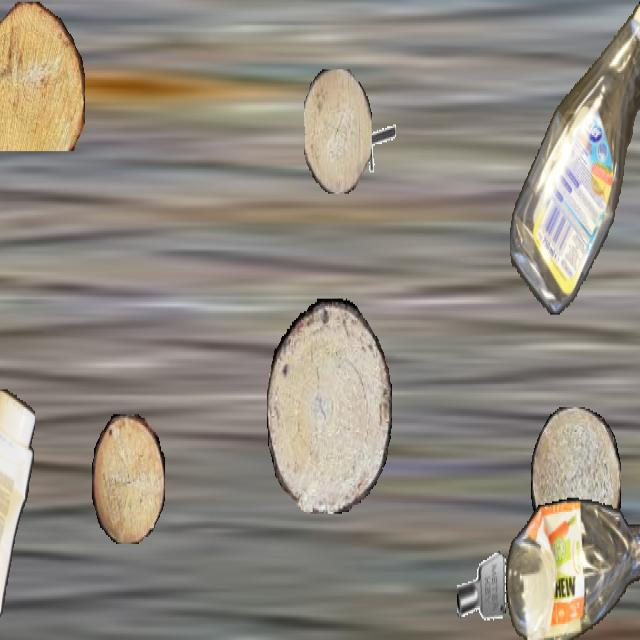metal: (457, 544, 507, 633), (358, 108, 396, 176)
plastic: (510, 2, 640, 314), (506, 496, 640, 638), (0, 390, 34, 638)
wood: (267, 299, 391, 512), (531, 407, 621, 557), (0, 2, 84, 151), (92, 414, 164, 542), (304, 69, 372, 194)
